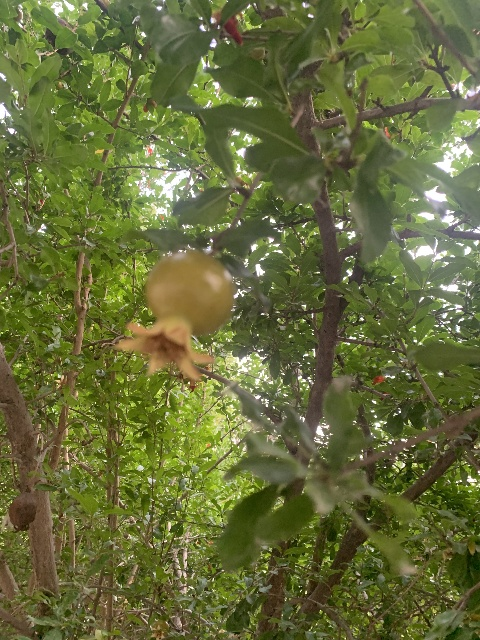mid-growth: (114, 251, 235, 385)
